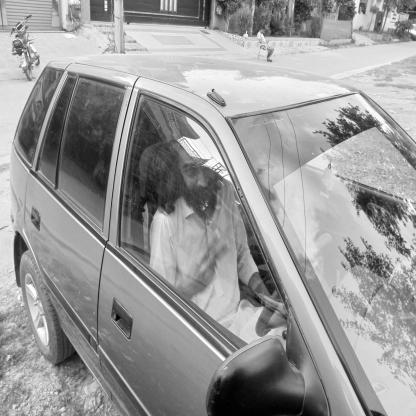no-seatbelt: (156, 120, 237, 292)
